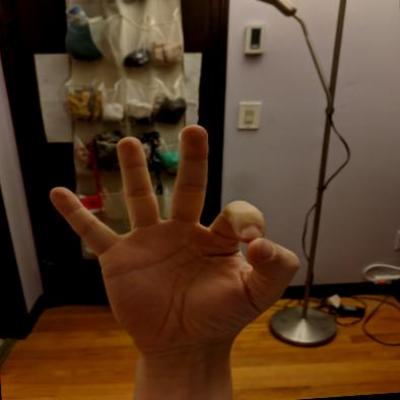hand: (41, 114, 312, 367)
